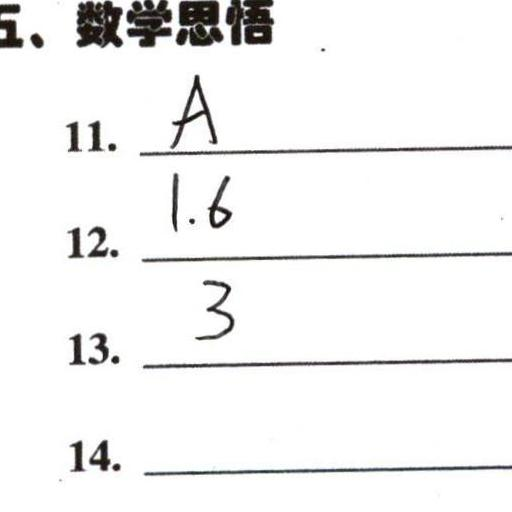ans: (160, 166, 233, 234), (164, 69, 219, 148), (189, 272, 235, 342)
